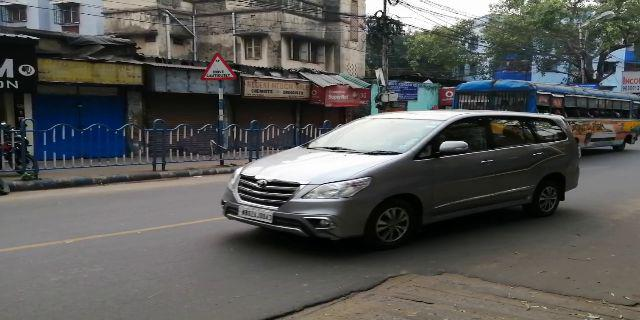Bus: (453, 84, 640, 151)
Car: (227, 112, 585, 225)
